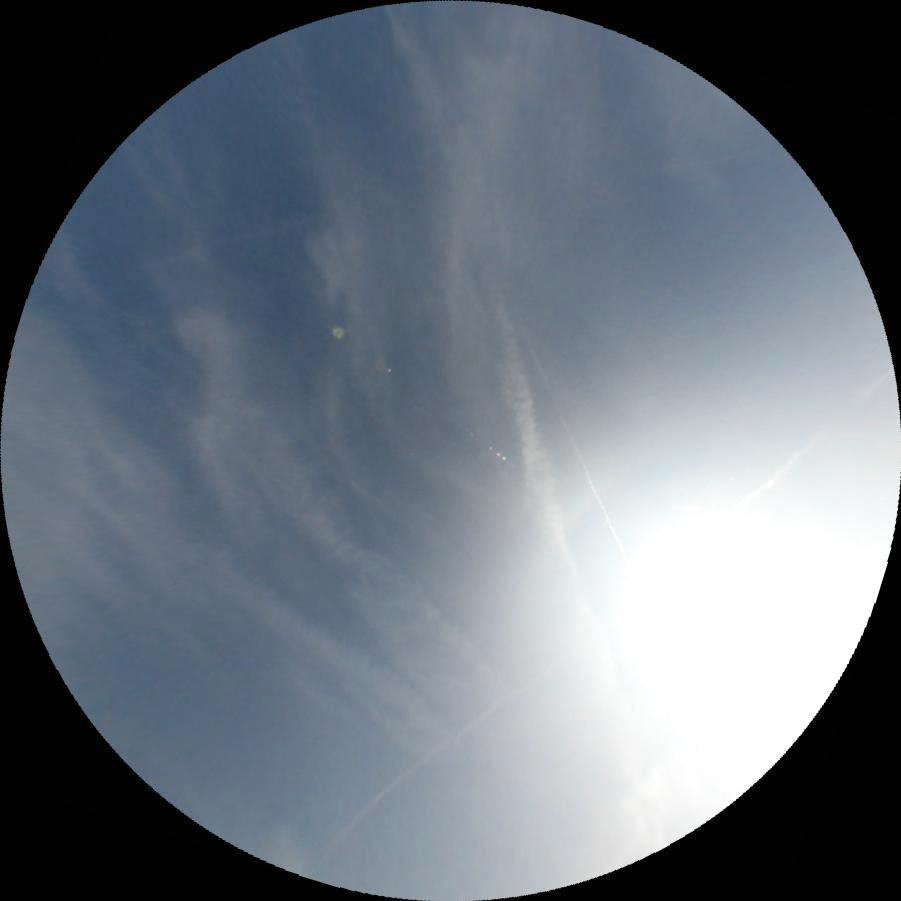contrail old: (318, 364, 900, 856)
contrail veryold: (373, 0, 594, 634), (185, 378, 510, 734), (147, 521, 459, 768)
contrail young: (143, 128, 782, 268), (515, 316, 637, 579), (425, 671, 478, 691)
sun: (579, 495, 884, 818)
